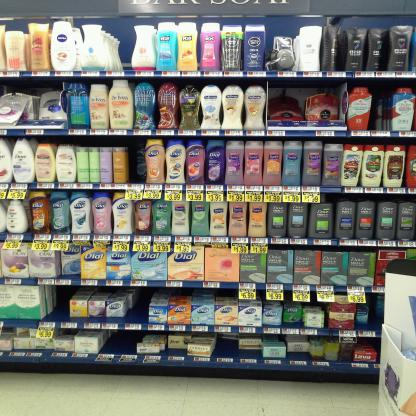Void: (115, 28, 131, 71), (131, 292, 146, 320), (106, 336, 134, 349), (132, 142, 142, 178), (218, 339, 237, 355), (53, 287, 58, 321)
